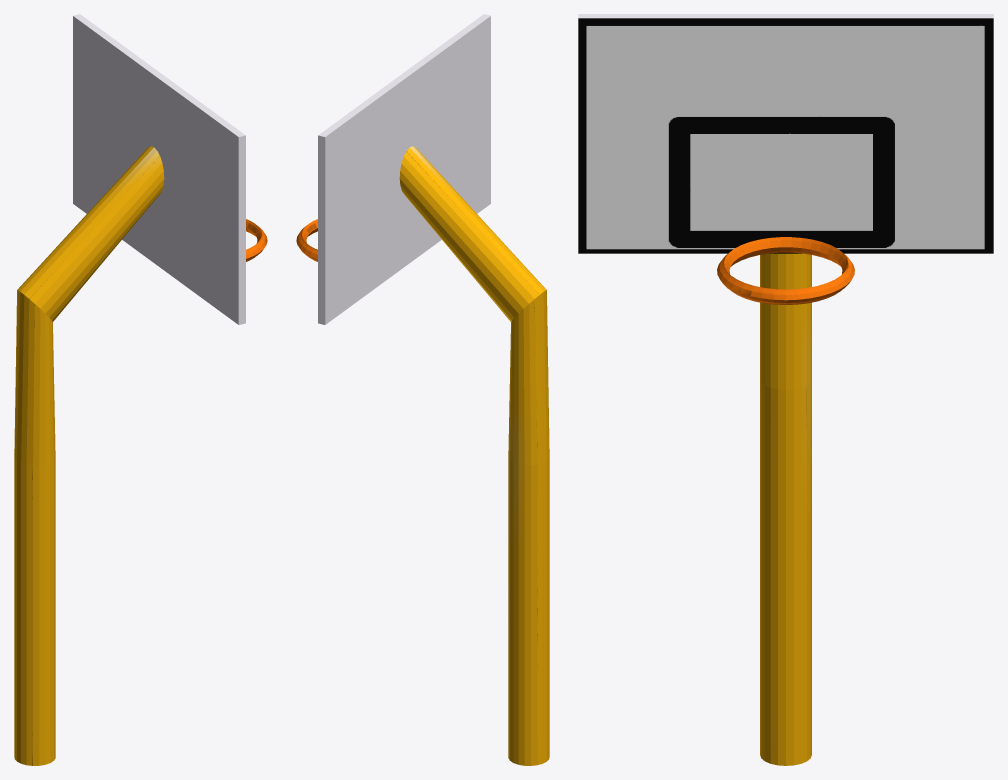
Rendered from basketPole.fbx.
3 views of the same model, side by side, from view 1: azimuth 30°, elevation 25°; view 2: azimuth 150°, elevation 25°; view 3: azimuth 270°, elevation 25° (orthographic). The views are drawn at different scales.
Parts seen in each view (by area): view 1: panel, Pole, ring; view 2: panel, Pole, ring; view 3: panel, Pole, ring.
Part boxes in pixels (x1,y1,x2,y2): panel: [73, 14, 245, 324]; Pole: [14, 146, 164, 765]; ring: [246, 219, 267, 261]; panel: [318, 14, 490, 324]; Pole: [399, 146, 549, 765]; ring: [296, 219, 317, 261]; panel: [578, 14, 993, 253]; Pole: [760, 253, 811, 765]; ring: [717, 237, 854, 304].
Bounding box in the file's own units: 338 × 866 × 400.
